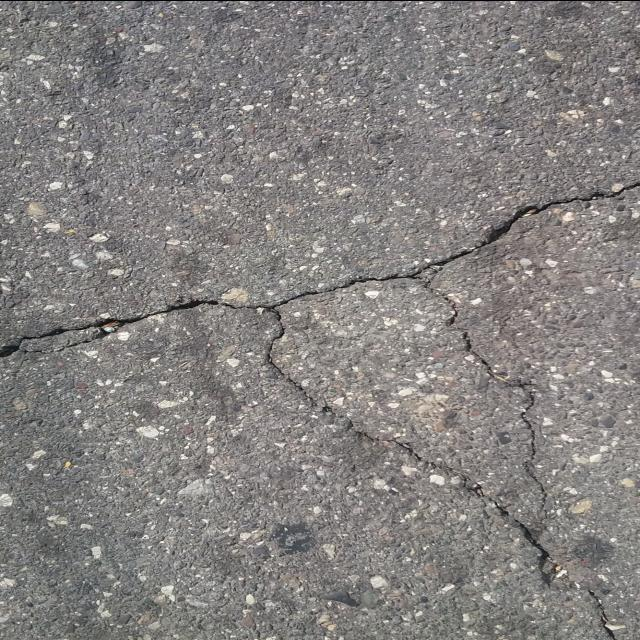Crack: (0, 181, 640, 640)
